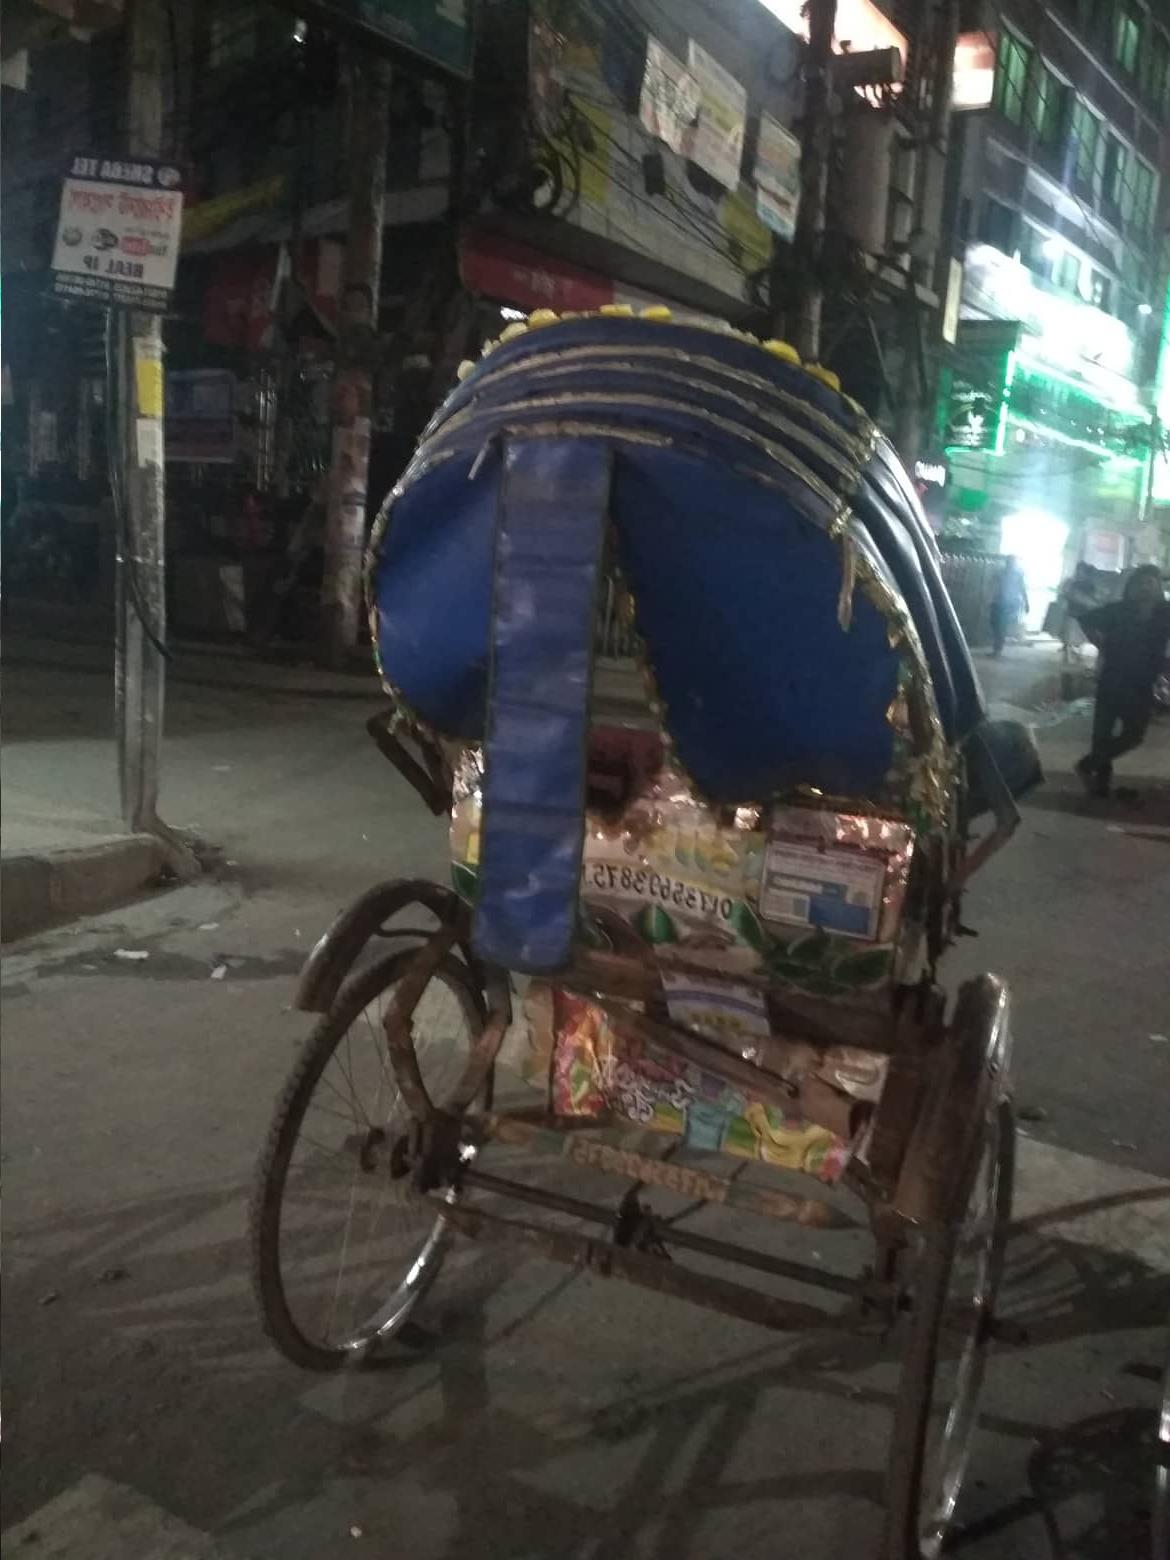Rickshaw: (245, 310, 1109, 1384)
